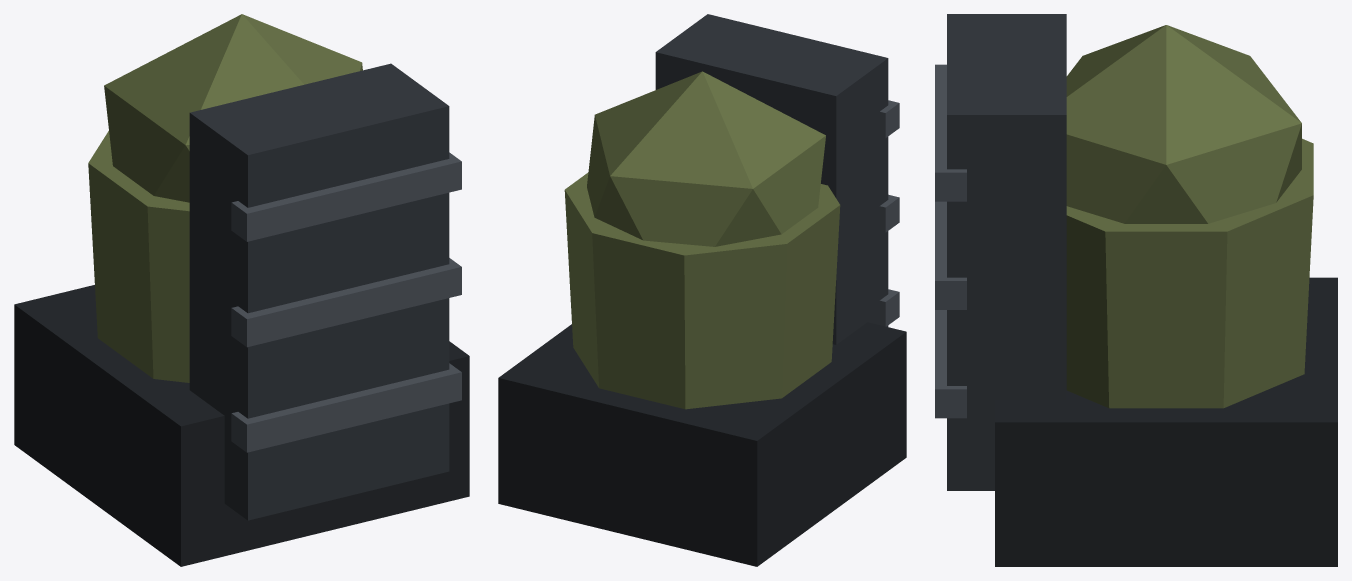
File: inf_warden_lower_leg.fbx
3 renders of one model, left to right at view 1: azimuth 30°, elevation 25°; view 2: azimuth 150°, elevation 25°; view 3: azimuth 270°, elevation 25°, orthographic. The views are drawn at different scales.
Parts seen in each view (by area): view 1: inf_warden_lower_leg; view 2: inf_warden_lower_leg; view 3: inf_warden_lower_leg.
Boxes of the visible parts, x1,y1,x2,y2 form: inf_warden_lower_leg: (14, 14, 469, 566); inf_warden_lower_leg: (498, 14, 906, 566); inf_warden_lower_leg: (935, 14, 1337, 566).
Bounding box in the file's own units: 86 × 130 × 101.
